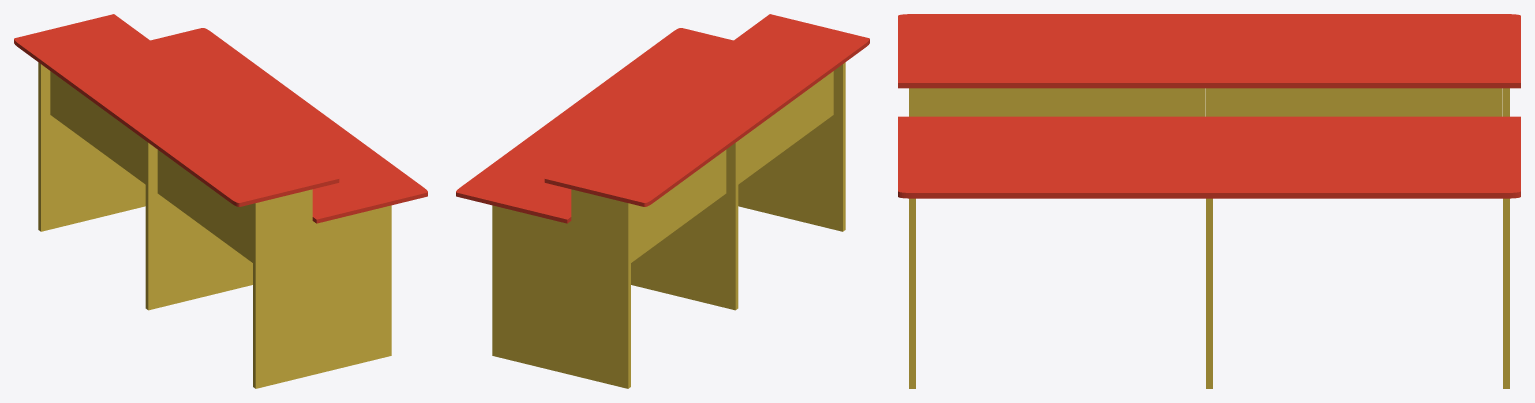
Rendered from mesa_labs.fbx.
The picture shows the model from 3 angles, left to right: view 1: azimuth 30°, elevation 25°; view 2: azimuth 150°, elevation 25°; view 3: azimuth 270°, elevation 25°; orthographic projection. The views are drawn at different scales.
Visible parts, largest first — view 1: tampo1, pata1, tampo2, pata2, pata3, tampo_atras2, tampo_atras1; view 2: tampo1, pata3, tampo2, pata2, pata1, tampo_atras1, tampo_atras2; view 3: tampo2, tampo1, tampo_atras1, tampo_atras2, pata1, pata2, pata3.
Boxes of the visible parts, x1,y1,x2,y2 form: tampo1: (14,14,339,206); pata1: (253,189,391,388); tampo2: (150,28,427,223); pata2: (145,141,252,310); pata3: (38,62,145,231); tampo_atras2: (157,150,252,262); tampo_atras1: (50,71,145,184); tampo1: (544,14,869,206); pata3: (492,189,630,388); tampo2: (456,28,733,223); pata2: (631,141,738,310); pata1: (738,62,845,231); tampo_atras1: (631,150,726,262); tampo_atras2: (738,71,833,184); tampo2: (898,116,1520,198); tampo1: (898,14,1520,88); tampo_atras1: (1213,88,1502,116); tampo_atras2: (916,88,1205,116); pata1: (909,88,915,388); pata2: (1206,88,1212,388); pata3: (1503,88,1509,388).
Size of the model in its own units: 85.04 by 81.64 by 172.
